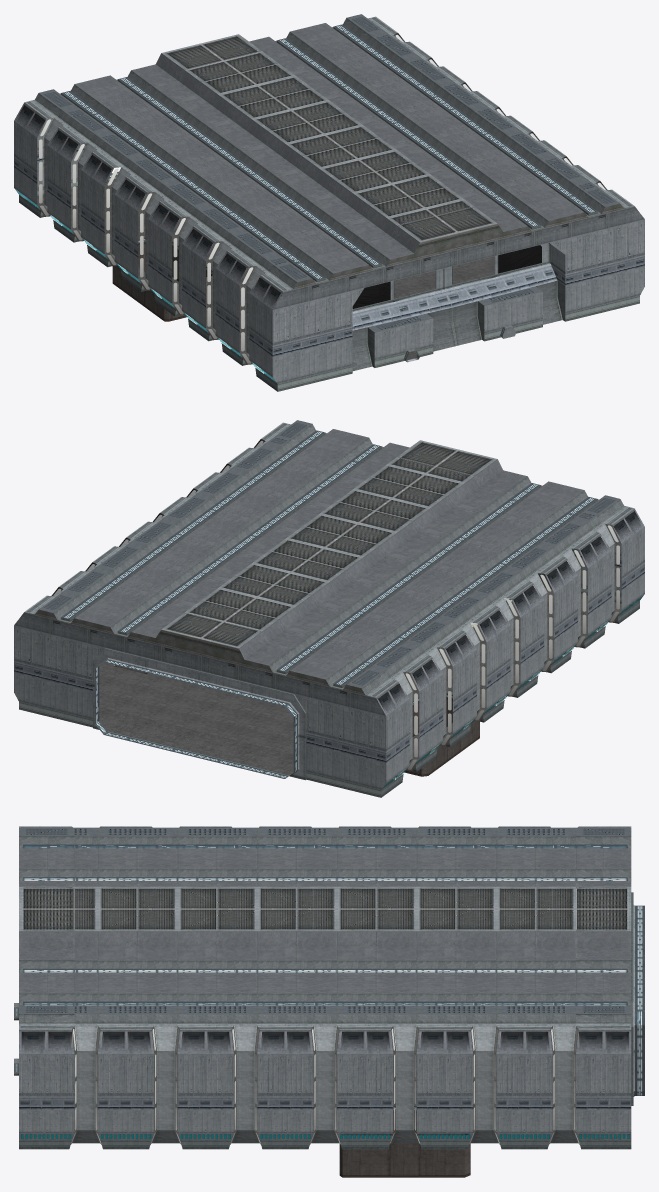
Rendered from thm_newbie_hall_r13_mesh_r13.fbx.
The picture shows the model from 3 angles, top to bottom: view 1: azimuth 30°, elevation 25°; view 2: azimuth 150°, elevation 25°; view 3: azimuth 270°, elevation 25°; orthographic projection. The views are drawn at different scales.
Parts seen in each view (by area): view 1: mesh_node; view 2: mesh_node; view 3: mesh_node.
Part boxes in pixels (x1,y1,x2,y2): mesh_node: [14, 14, 644, 391]; mesh_node: [14, 420, 644, 797]; mesh_node: [14, 826, 644, 1177].
Bounding box in the file's own units: 197 × 75.88 × 245.
